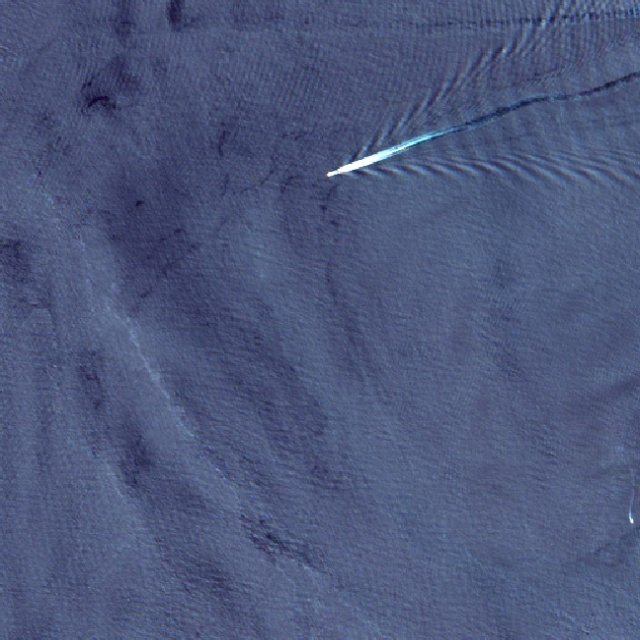wake: (295, 23, 588, 240)
